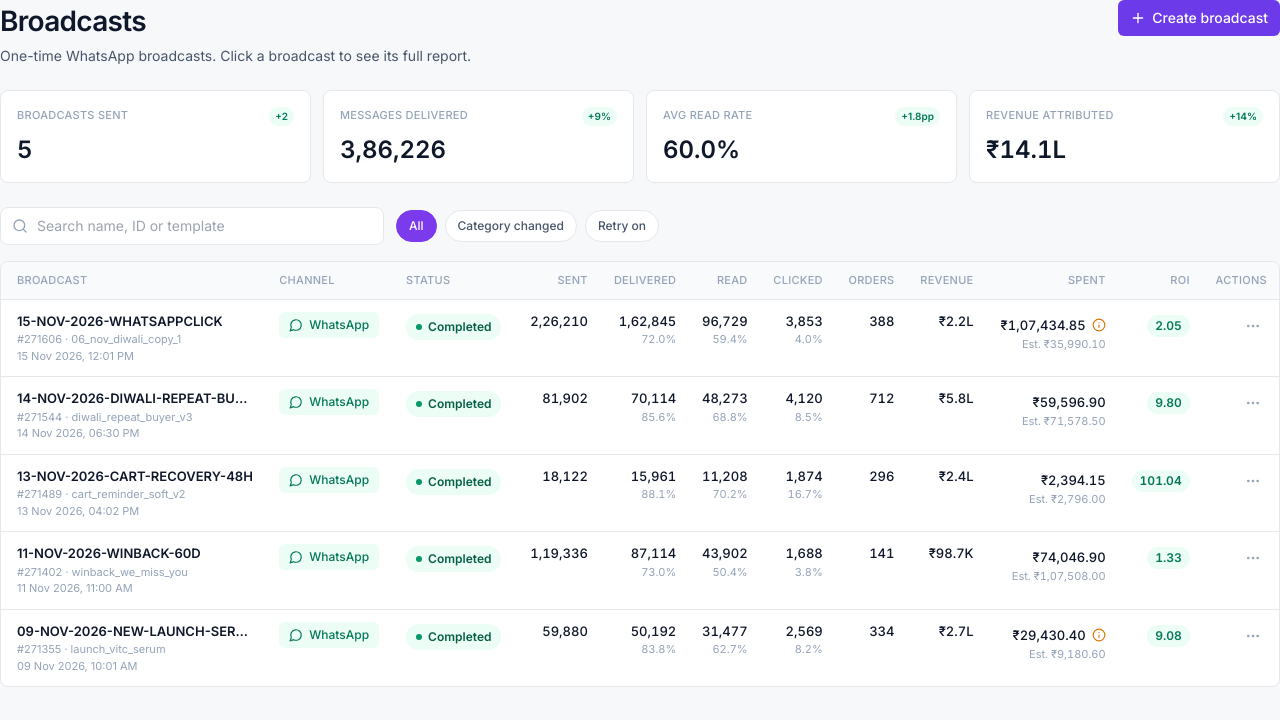
Test case: BroadcastsPage › shows a single-column comparison and no change badge when the category never changed
Click the row with test id "broadcasts-row-271544".
click(640, 415)  # box 1,376 -> 1279,454
(page scrolled)
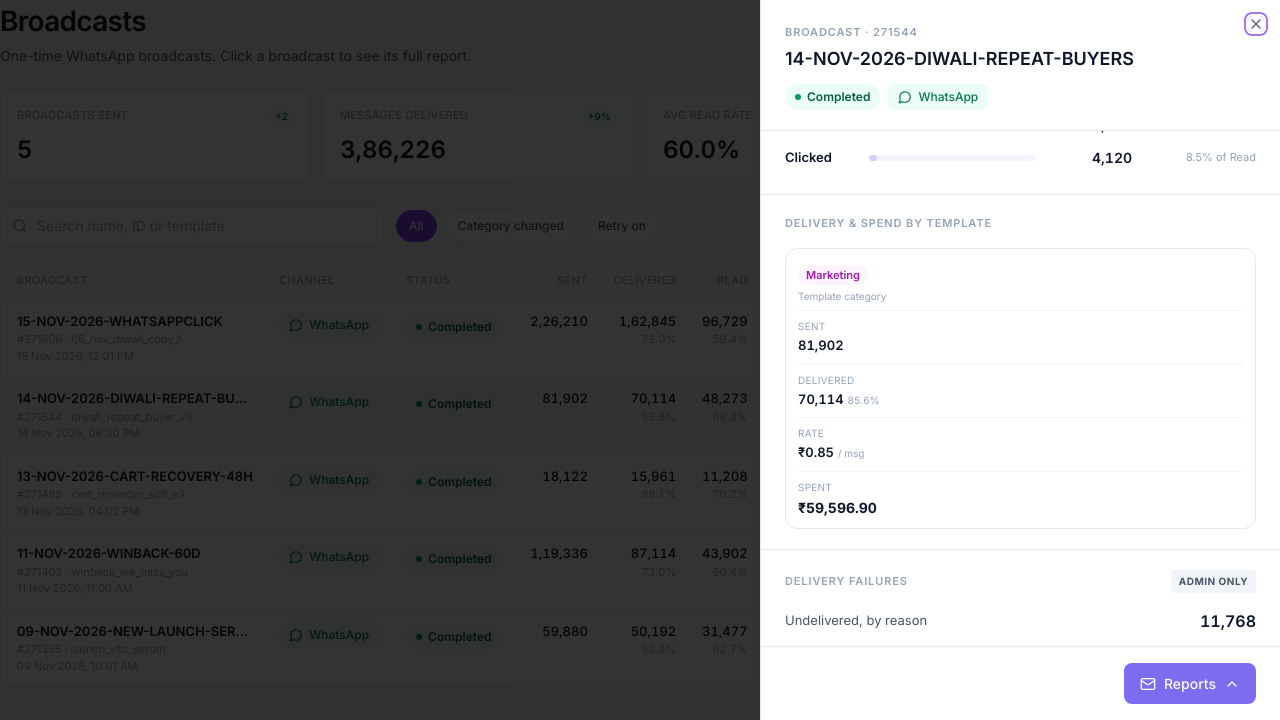
Expected: the element with test id "broadcast-split-compare" shows "Marketing", 806,268 -> 860,282
